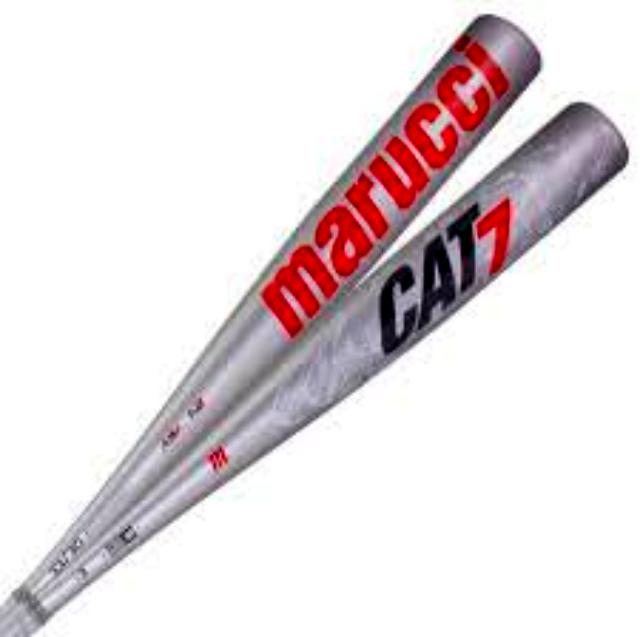baseball bat: (0, 99, 633, 637)
